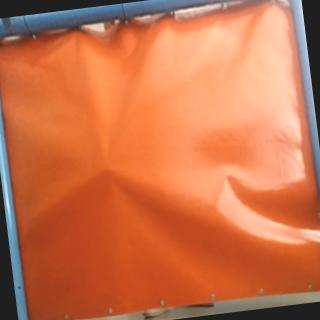Hit-hRxx: (99, 162, 118, 176)
